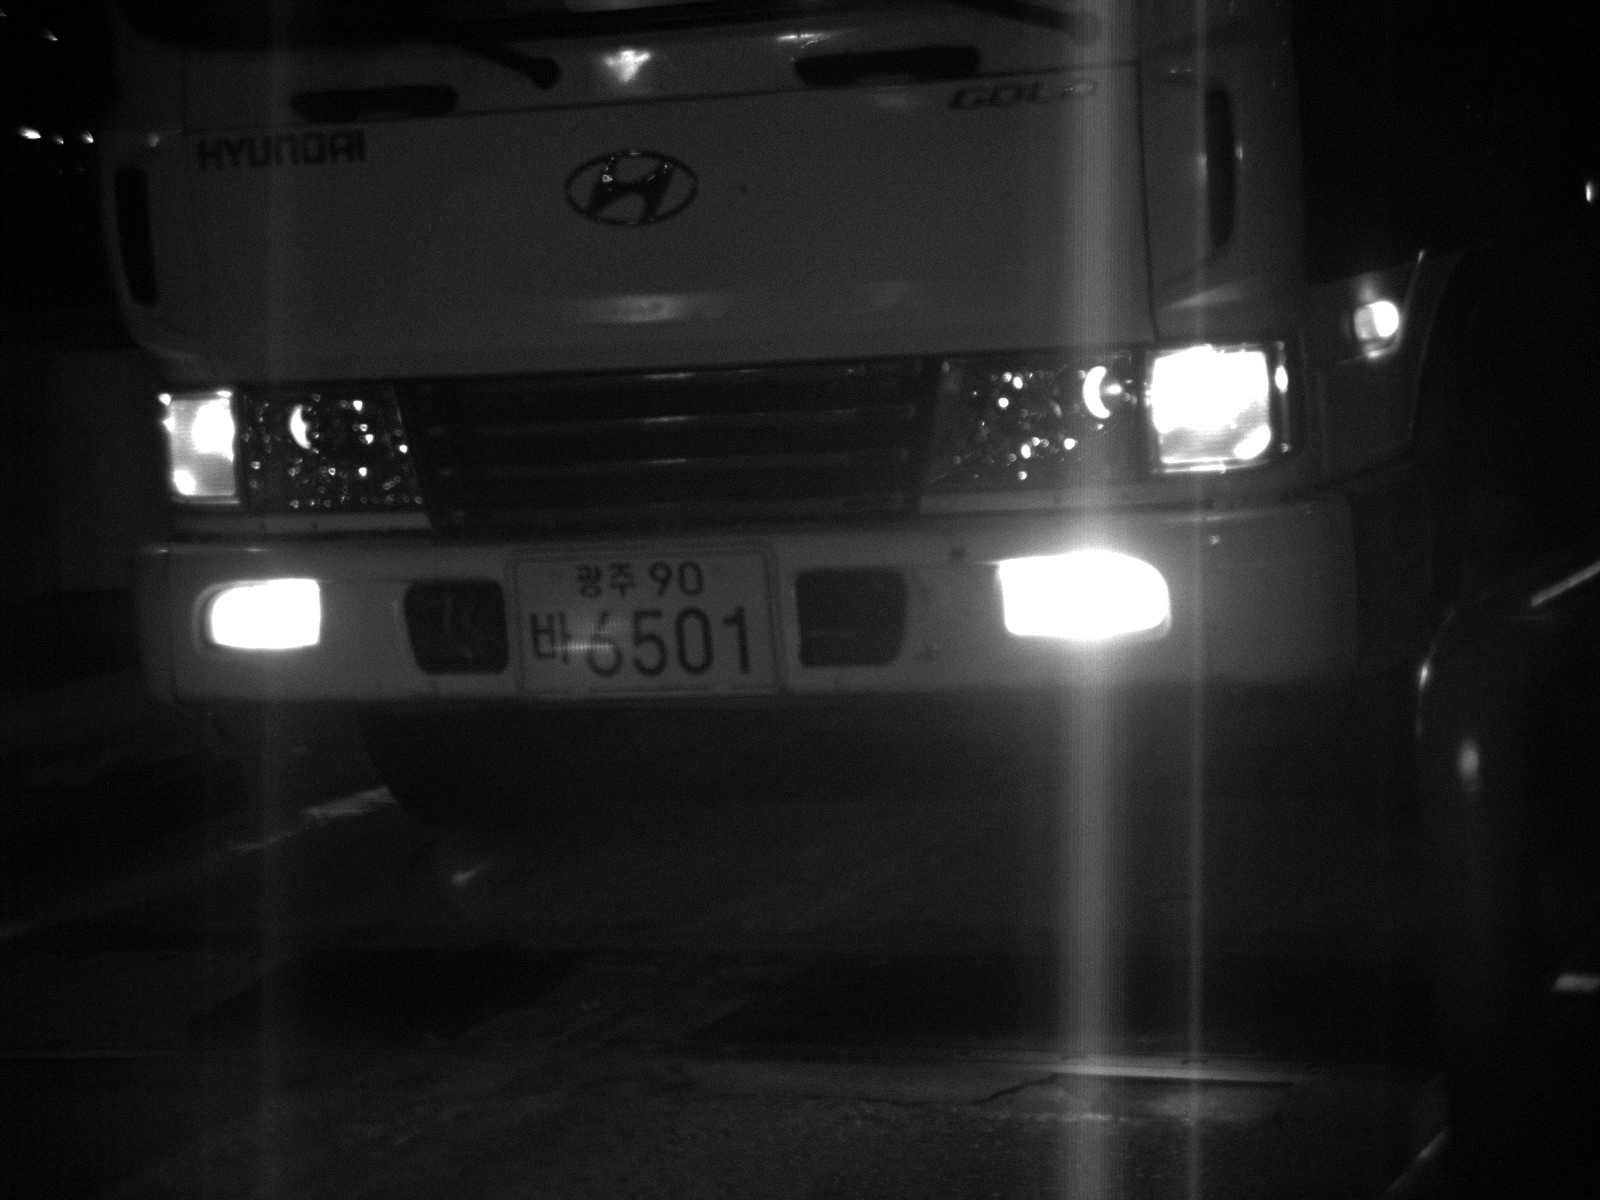car: (95, 1, 1599, 838)
plate: (497, 537, 785, 705)
